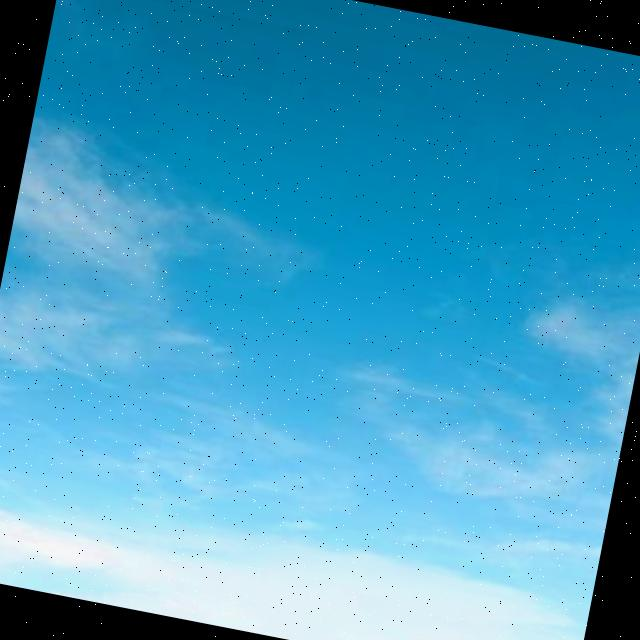Ci: (1, 21, 640, 640)
